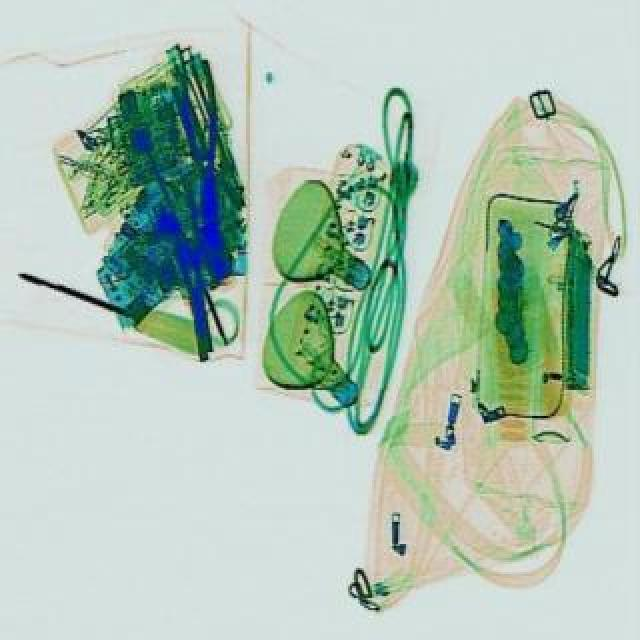wrench: (174, 58, 230, 226)
